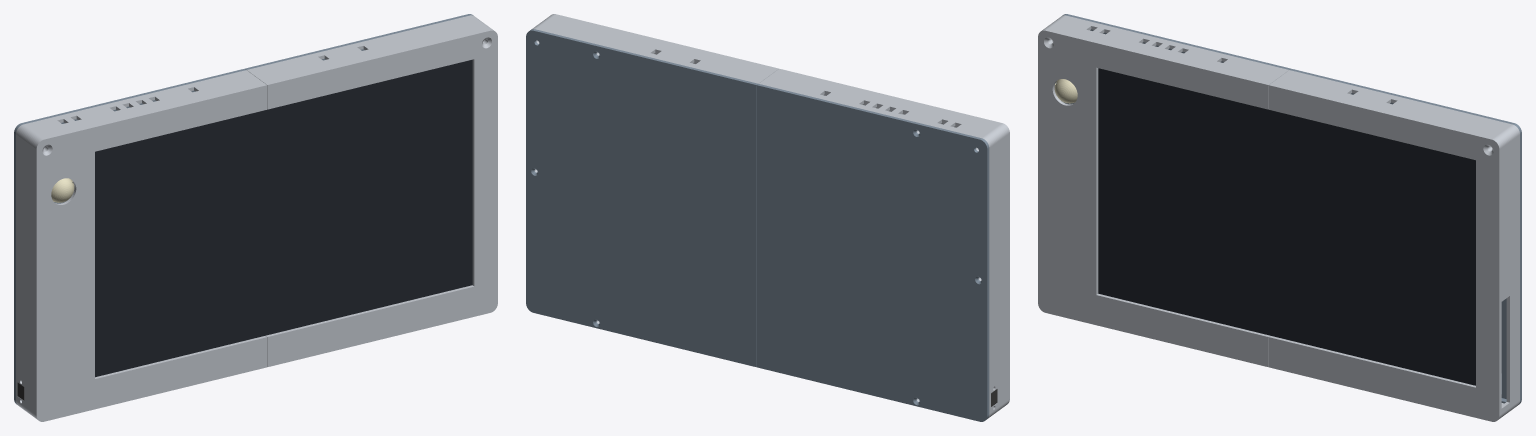
File: gehaeuse_geteilt.dae
The picture shows the model from 3 angles, left to right: view 1: azimuth 30°, elevation 25°; view 2: azimuth 150°, elevation 25°; view 3: azimuth 330°, elevation 25°; orthographic projection.
Visible parts, largest first — view 1: REFERENZ_Monitor, Front_1, Front_2, Rueckseite_1, Rueckseite_2, REFERENZ_PIR; view 2: Rueckseite_1, Rueckseite_2, Front_1, Front_2; view 3: REFERENZ_Monitor, Front_1, Front_2, Rueckseite_2, Rueckseite_1, REFERENZ_PIR.
Part boxes in pixels (x1=…): REFERENZ_Monitor: x1=95, y1=59, x2=472, y2=377; Front_1: x1=16, y1=70, x2=266, y2=421; Front_2: x1=247, y1=15, x2=497, y2=367; Rueckseite_1: x1=14, y1=68, x2=245, y2=404; Rueckseite_2: x1=245, y1=14, x2=473, y2=69; REFERENZ_PIR: x1=51, y1=178, x2=74, y2=202; Rueckseite_1: x1=757, y1=84, x2=989, y2=421; Rueckseite_2: x1=526, y1=29, x2=757, y2=367; Front_1: x1=759, y1=68, x2=1009, y2=418; Front_2: x1=531, y1=14, x2=778, y2=323; REFERENZ_Monitor: x1=1098, y1=68, x2=1475, y2=385; Front_1: x1=1038, y1=15, x2=1288, y2=367; Front_2: x1=1269, y1=70, x2=1519, y2=421; Rueckseite_2: x1=1290, y1=68, x2=1521, y2=404; Rueckseite_1: x1=1056, y1=14, x2=1290, y2=104; REFERENZ_PIR: x1=1054, y1=79, x2=1077, y2=103.
Bounding box in the file's own units: 425 × 40.48 × 248.
